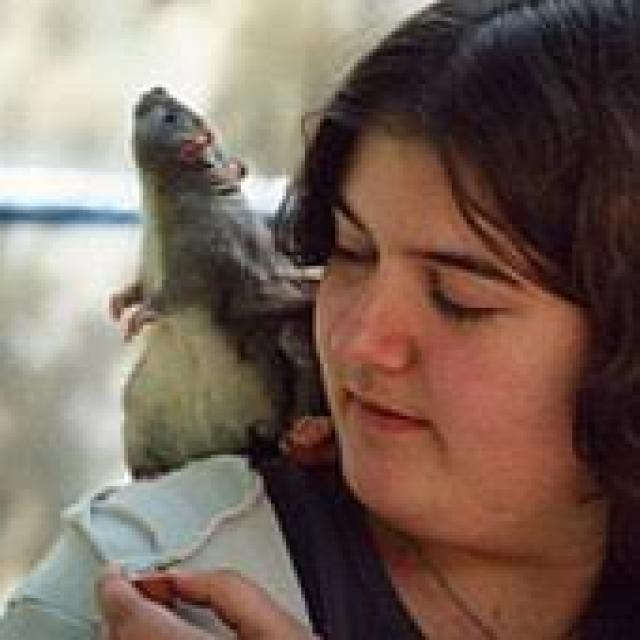Rat: (86, 51, 312, 434)
